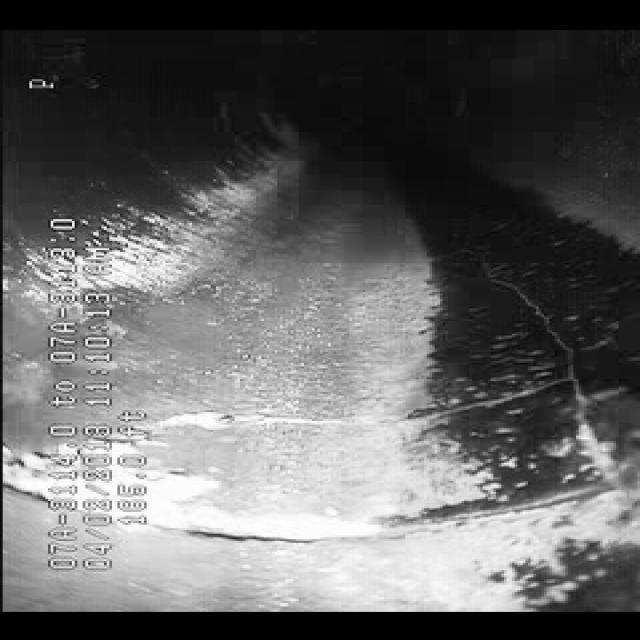Crack: (168, 364, 538, 445)
